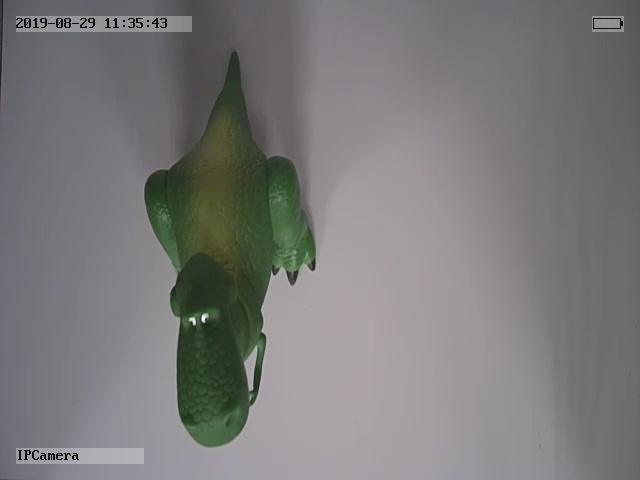rex: (145, 51, 317, 448)
